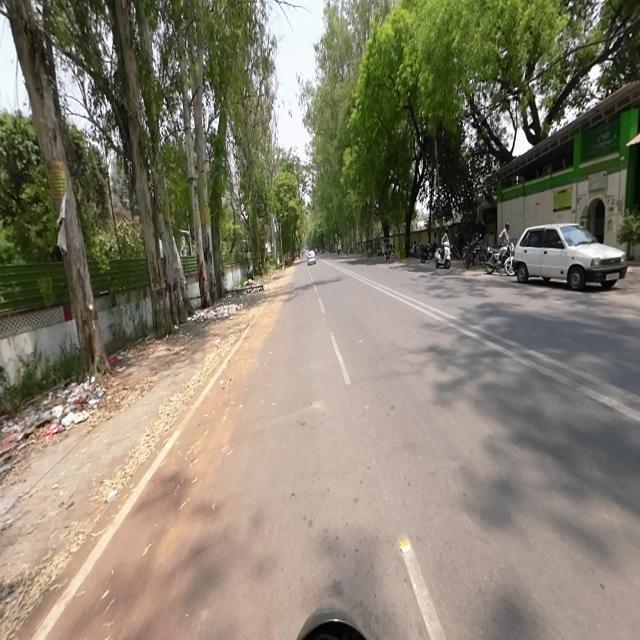Garbage: (48, 381, 108, 428), (20, 408, 48, 450), (190, 302, 244, 322)
